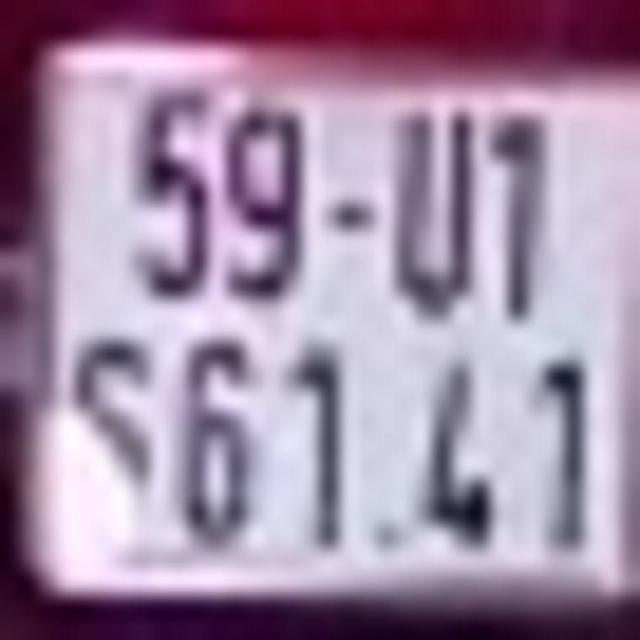1: (532, 360, 602, 556), (288, 346, 350, 549), (496, 108, 550, 326)
4: (418, 350, 497, 556)
5: (130, 83, 214, 303)
6: (72, 334, 160, 556), (176, 330, 252, 554)
9: (220, 95, 304, 308)
U: (393, 105, 483, 321)
